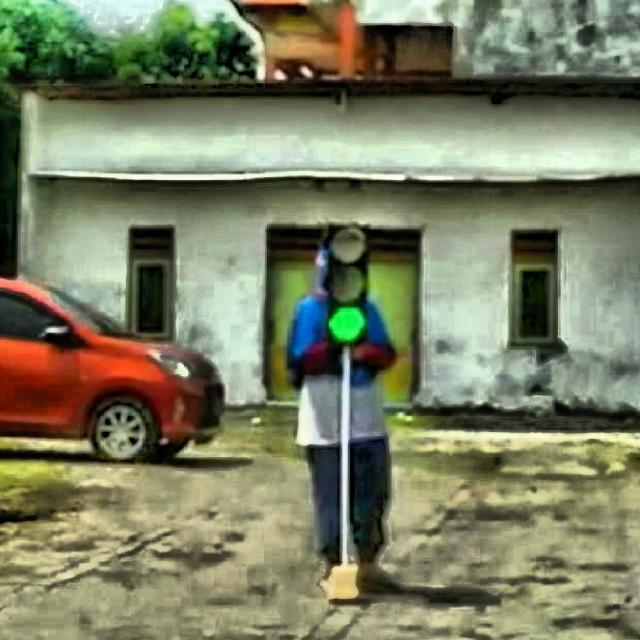green: (327, 223, 369, 344)
